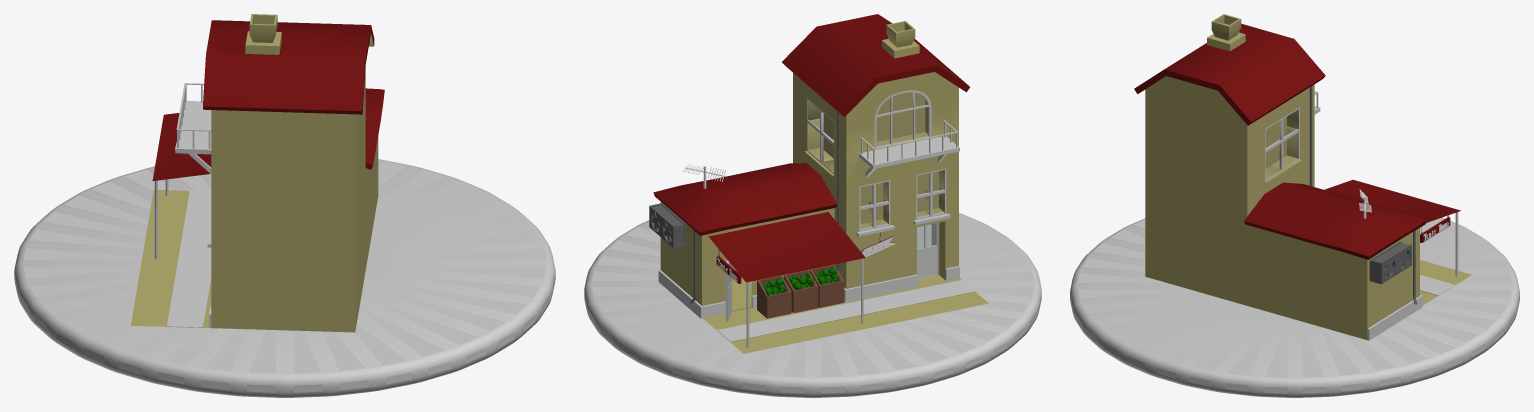
File: Low Poly House.fbx
3 views of the same model, side by side, from view 1: azimuth 30°, elevation 25°; view 2: azimuth 150°, elevation 25°; view 3: azimuth 270°, elevation 25° (orthographic). The views are drawn at different scales.
Parts seen in each view (by area): view 1: Stand, Base, Cube, Base_2; view 2: Base, Stand, Cube, Boole_3_5, Boole_3_6, Base_2, Boole_3_4, Boole, xsThickness_2, Boole_3, Boole_1, xsThickness (+5 smaller); view 3: Base, Stand, Cube, Boole, Boole_3, Boole_2, Cylinder_2.
Part boxes in pixels (x1=…): Stand: x1=14, y1=159, x2=555, y2=397; Base: x1=131, y1=14, x2=384, y2=332; Cube: x1=152, y1=113, x2=211, y2=180; Base_2: x1=175, y1=101, x2=211, y2=173; Base: x1=653, y1=14, x2=988, y2=353; Stand: x1=584, y1=213, x2=1041, y2=397; Cube: x1=708, y1=212, x2=865, y2=282; Boole_3_5: x1=857, y1=170, x2=948, y2=232; Boole_3_6: x1=876, y1=92, x2=931, y2=146; Base_2: x1=859, y1=136, x2=959, y2=177; Boole_3_4: x1=859, y1=168, x2=946, y2=231; Boole: x1=807, y1=100, x2=833, y2=172; xsThickness_2: x1=757, y1=275, x2=791, y2=318; Boole_3: x1=649, y1=203, x2=686, y2=247; Boole_1: x1=874, y1=90, x2=931, y2=148; xsThickness: x1=783, y1=270, x2=818, y2=312; Base: x1=1134, y1=14, x2=1471, y2=340; Stand: x1=1070, y1=217, x2=1519, y2=397; Cube: x1=1324, y1=179, x2=1460, y2=222; Boole: x1=1265, y1=109, x2=1298, y2=178; Boole_3: x1=1369, y1=241, x2=1411, y2=284; Boole_2: x1=1265, y1=107, x2=1299, y2=181; Cylinder_2: x1=1309, y1=86, x2=1312, y2=186.
Bounding box in the file's own units: 961 × 612 × 961.
